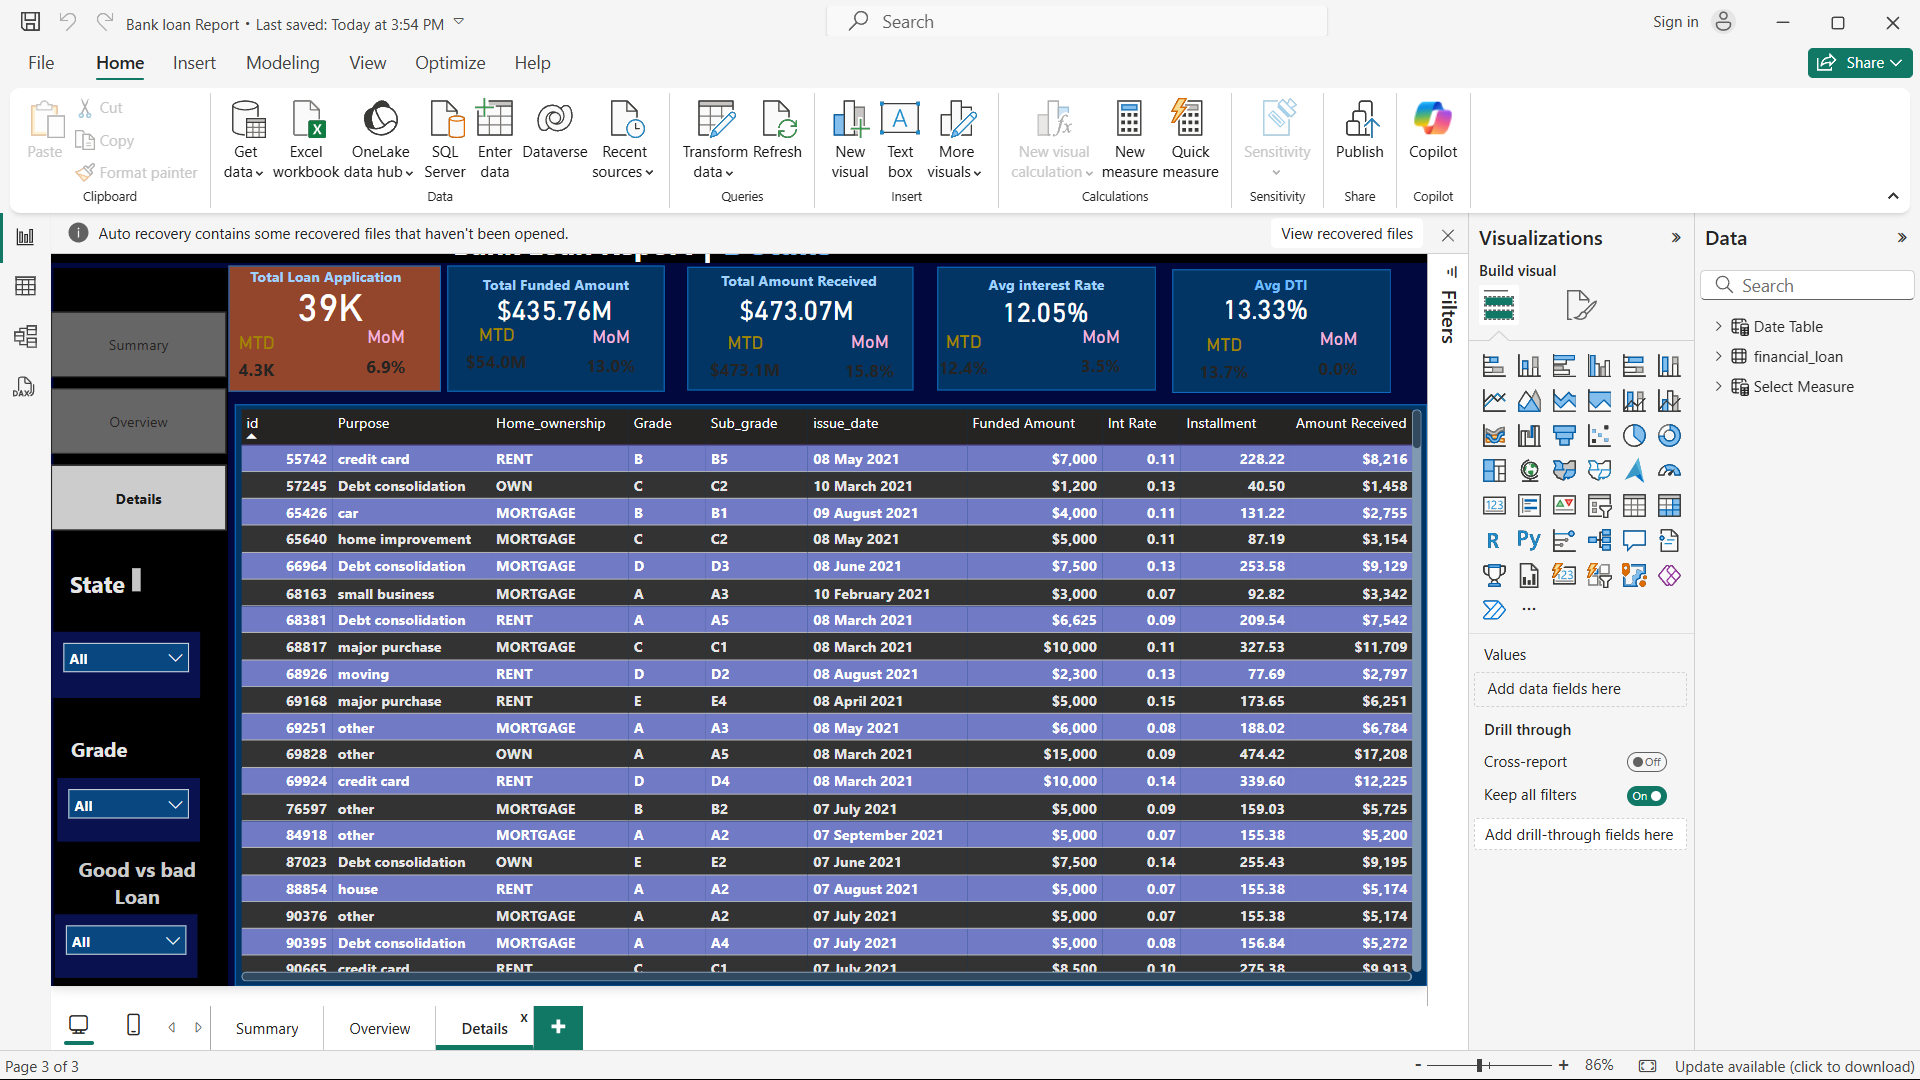

Layout of this report page (visuals, bound fields, positions):
{"tool":"powerbi","page":{"name":"Details","canvas":[1280,720],"ordinal":2},"visuals":[{"type":"shape","box":[0,0,1280,46.7],"z":0},{"type":"shape","box":[2.3,51.2,162.8,668.6],"z":1000},{"type":"textbox","box":[368.3,0,543.3,68.3],"z":2000},{"type":"shape","box":[165.1,48.8,197.7,117.4],"z":3000},{"type":"card","fields":{"Values":["financial_loan.Total_loan_application"]},"box":[201.2,61.6,117.4,47.7],"z":4000},{"type":"textbox","box":[137.2,45.3,237.2,47.7],"z":5000},{"type":"card","title":"MTD","fields":{"Values":["financial_loan.MTD Loan Applicaton"]},"box":[137.2,110.5,108.1,55.8],"z":6000},{"type":"card","title":"MoM","fields":{"Values":["financial_loan.MoM Loan application"]},"box":[438,103,103,54],"z":7000},{"type":"shape","box":[368.6,48.8,202.3,117.4],"z":8000},{"type":"textbox","box":[369.8,52.3,200,31.4],"z":9000},{"type":"card","fields":{"Values":["financial_loan.Total Funded Amount"]},"box":[380.2,66.3,176.7,46.5],"z":10000},{"type":"card","title":"MTD","fields":{"Values":["financial_loan.MTD funded Amoutn"]},"box":[360.5,103.5,108.1,54.7],"z":11000},{"type":"card","title":"MoM","fields":{"Values":["financial_loan.MoM Loan application"]},"box":[260.5,104.7,102.3,61.6],"z":12000},{"type":"card","title":"MoM","fields":{"Values":["financial_loan.Mom Total Funded Amount"]},"box":[469.8,104.7,102.3,60.5],"z":13000},{"type":"shape","box":[591.9,50,210.5,115.1],"z":14000},{"type":"card","fields":{"Values":["financial_loan.Total Amount Received"]},"box":[604.7,66.3,177.9,46.5],"z":15000},{"type":"card","title":"MTD","fields":{"Values":["financial_loan.Total Amount Received"]},"box":[591.9,110.5,108.1,54.7],"z":16000},{"type":"card","title":"MoM","fields":{"Values":["financial_loan.MoM Total Amount Recieved"]},"box":[710.5,109.3,102.3,60.5],"z":17000},{"type":"shape","box":[824.4,50,203.5,115.1],"z":18000},{"type":"card","fields":{"Values":["financial_loan.Avg Interest Rate"]},"box":[836,68.6,177.9,46.5],"z":19000},{"type":"card","title":"MTD","fields":{"Values":["financial_loan.MTD avg Int Rate"]},"box":[786,109.3,125.6,54.7],"z":20000},{"type":"card","title":"MoM","fields":{"Values":["financial_loan.MoM Avg Int Rate"]},"box":[925.6,104.7,102.3,60.5],"z":21000},{"type":"textbox","box":[595.4,48.8,204.7,34.9],"z":22000},{"type":"textbox","box":[827.9,52.3,200,32.6],"z":23000},{"type":"shape","box":[1043,52.3,203.5,115.1],"z":24000},{"type":"textbox","box":[1041.9,52.3,204.7,34.9],"z":25000},{"type":"card","fields":{"Values":["financial_loan.Avg DTI"]},"box":[1040.7,65.1,177.9,46.5],"z":26000},{"type":"card","title":"MTD","fields":{"Values":["financial_loan.MTD Avg Dti"]},"box":[1037.2,112.8,108.1,54.7],"z":27000},{"type":"card","title":"MoM","fields":{"Values":["financial_loan.MoM Avg DTI"]},"box":[1146.5,107,102.3,60.5],"z":28000},{"type":"slicer","fields":{"Values":["financial_loan.address_state"]},"box":[1.2,389.5,137.2,61.6],"z":29000},{"type":"textbox","box":[5.8,325.6,82.6,34.9],"z":30000},{"type":"slicer","fields":{"Values":["financial_loan.grade"]},"box":[5.8,525.6,132.6,59.3],"z":31000},{"type":"textbox","box":[5.8,481.4,77.9,34.9],"z":32000},{"type":"slicer","fields":{"Values":["financial_loan.Good v Bad Loan"]},"box":[3.5,652.3,132.6,59.3],"z":33000},{"type":"textbox","box":[4.7,593,151.2,59.3],"z":34000},{"type":"shape","box":[170.9,177.9,1109.3,541.9],"z":35000},{"type":"tableEx","fields":{"Values":["Sum(financial_loan.id)","financial_loan.purpose","financial_loan.home_ownership","financial_loan.grade","financial_loan.sub_grade","financial_loan.issue_date","financial_loan.Total Funded Amount","Sum(financial_loan.int_rate)","Sum(financial_loan.installment)","financial_loan.Total Amount Received"]},"box":[170.9,177.9,1109.3,541.9],"z":36000},{"type":"actionButton","box":[0,0,100,40],"z":37000},{"type":"pageNavigator","box":[0,91.9,164,204.7],"z":38000}]}

Visuals, with their boxes on the page's 1280x720 design canvas (x1, y1, x2, y2). These are canvas units, not pixel positions in the 1920x1080 screenshot, which may show the page scaled, cropped or inside an application window:
shape: x1=0 y1=0 x2=1280 y2=47
shape: x1=2 y1=51 x2=165 y2=720
textbox: x1=368 y1=0 x2=912 y2=68
shape: x1=165 y1=49 x2=363 y2=166
card - financial_loan.Total_loan_application: x1=201 y1=62 x2=319 y2=109
textbox: x1=137 y1=45 x2=374 y2=93
"MTD" card: x1=137 y1=110 x2=245 y2=166
"MoM" card: x1=438 y1=103 x2=541 y2=157
shape: x1=369 y1=49 x2=571 y2=166
textbox: x1=370 y1=52 x2=570 y2=84
card - financial_loan.Total Funded Amount: x1=380 y1=66 x2=557 y2=113
"MTD" card: x1=360 y1=104 x2=469 y2=158
"MoM" card: x1=260 y1=105 x2=363 y2=166
"MoM" card: x1=470 y1=105 x2=572 y2=165
shape: x1=592 y1=50 x2=802 y2=165
card - financial_loan.Total Amount Received: x1=605 y1=66 x2=783 y2=113
"MTD" card: x1=592 y1=110 x2=700 y2=165
"MoM" card: x1=710 y1=109 x2=813 y2=170
shape: x1=824 y1=50 x2=1028 y2=165
card - financial_loan.Avg Interest Rate: x1=836 y1=69 x2=1014 y2=115
"MTD" card: x1=786 y1=109 x2=912 y2=164
"MoM" card: x1=926 y1=105 x2=1028 y2=165
textbox: x1=595 y1=49 x2=800 y2=84
textbox: x1=828 y1=52 x2=1028 y2=85
shape: x1=1043 y1=52 x2=1246 y2=167
textbox: x1=1042 y1=52 x2=1247 y2=87
card - financial_loan.Avg DTI: x1=1041 y1=65 x2=1219 y2=112
"MTD" card: x1=1037 y1=113 x2=1145 y2=168
"MoM" card: x1=1146 y1=107 x2=1249 y2=168
slicer - financial_loan.address_state: x1=1 y1=390 x2=138 y2=451
textbox: x1=6 y1=326 x2=88 y2=360
slicer - financial_loan.grade: x1=6 y1=526 x2=138 y2=585
textbox: x1=6 y1=481 x2=84 y2=516
slicer - financial_loan.Good v Bad Loan: x1=4 y1=652 x2=136 y2=712
textbox: x1=5 y1=593 x2=156 y2=652
shape: x1=171 y1=178 x2=1280 y2=720
tableEx - Sum(financial_loan.id) x financial_loan.purpose: x1=171 y1=178 x2=1280 y2=720
actionButton: x1=0 y1=0 x2=100 y2=40
pageNavigator: x1=0 y1=92 x2=164 y2=297
